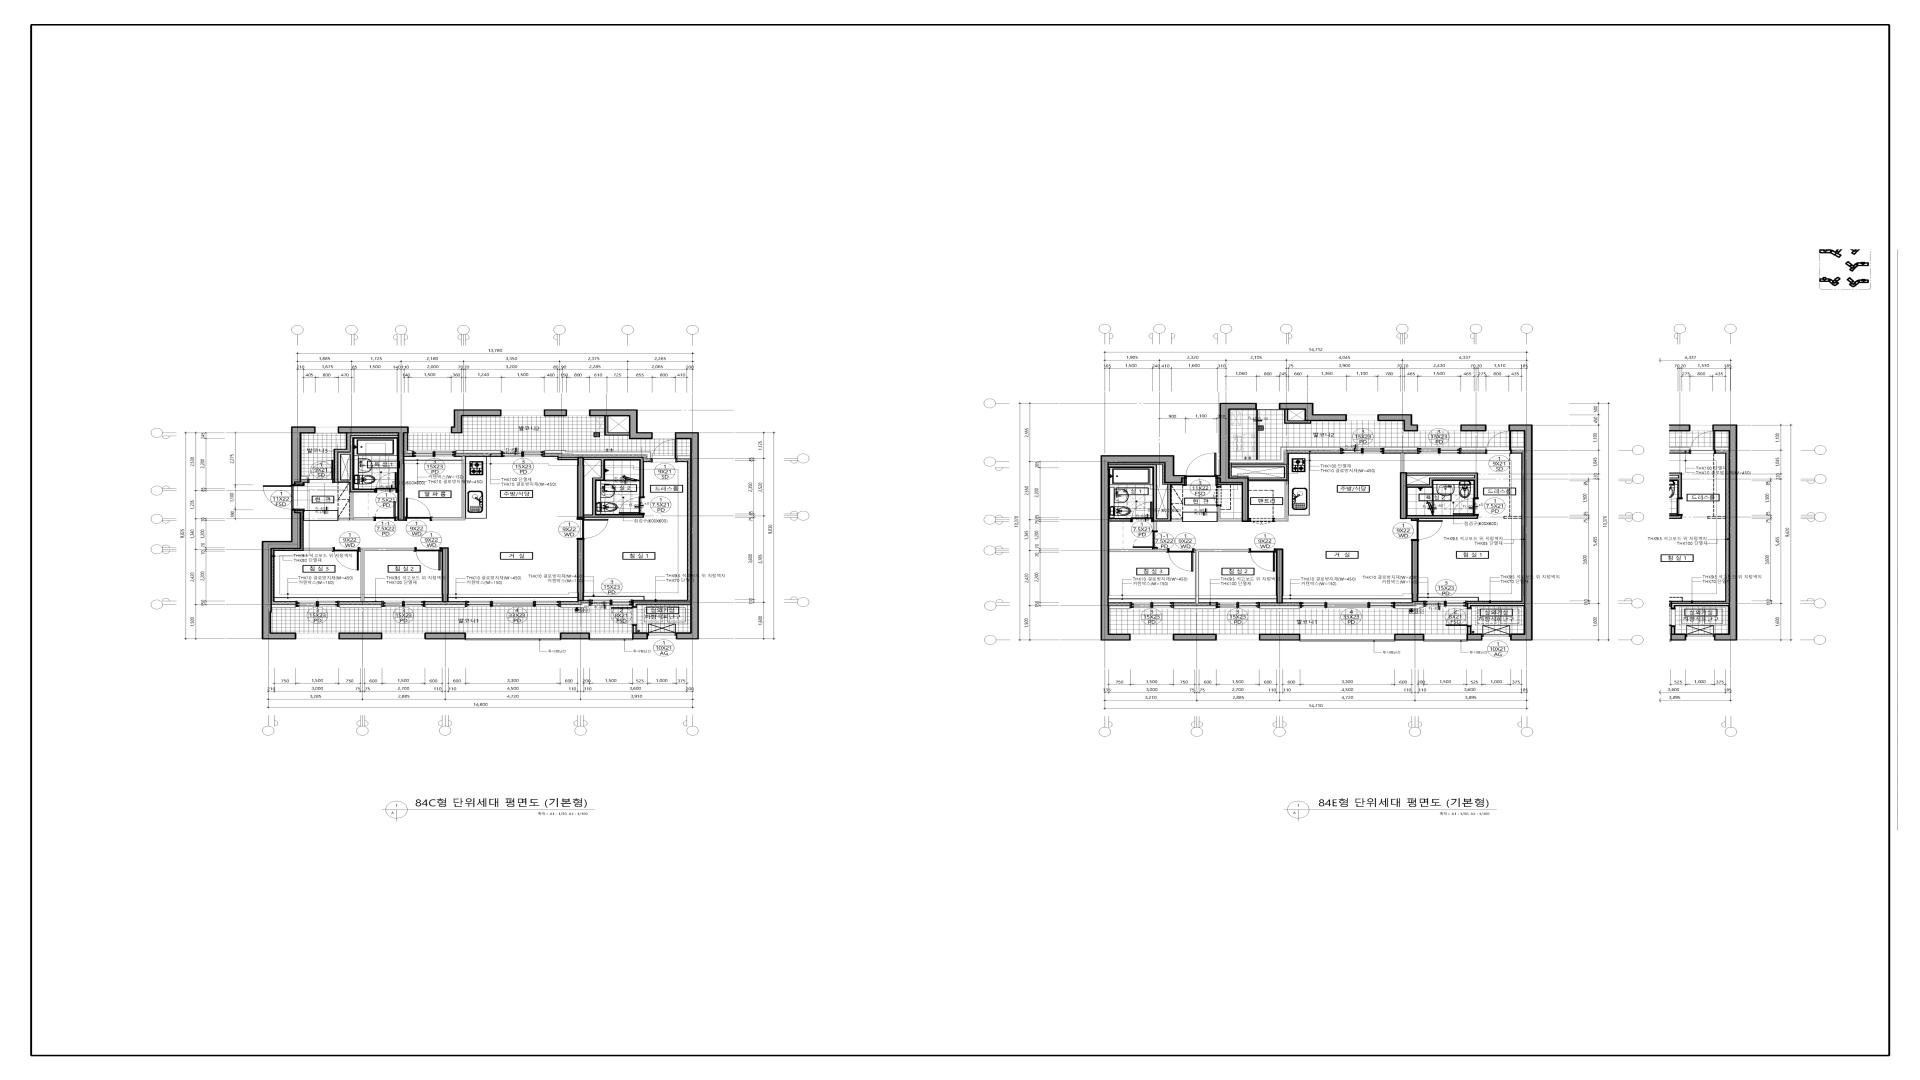door: (1185, 452, 1217, 487), (262, 485, 305, 510), (576, 518, 609, 539), (1411, 520, 1443, 541), (1167, 549, 1195, 572), (1249, 549, 1276, 572), (405, 497, 431, 521), (334, 547, 360, 571), (415, 547, 442, 571), (651, 439, 678, 463), (307, 460, 334, 483), (1486, 431, 1511, 454), (611, 607, 637, 625), (1453, 497, 1480, 516), (1445, 608, 1472, 626), (1130, 501, 1153, 522), (375, 472, 397, 493), (1133, 530, 1158, 549), (618, 497, 645, 514), (375, 501, 397, 521), (1249, 518, 1274, 525)
wall: (1101, 455, 1185, 641), (338, 435, 398, 521), (1509, 425, 1532, 641), (261, 510, 301, 640), (675, 433, 699, 640), (1109, 464, 1183, 530), (584, 458, 644, 518), (1217, 402, 1257, 483), (1195, 549, 1249, 603), (360, 549, 415, 601), (431, 456, 465, 521), (589, 410, 653, 439), (1407, 472, 1478, 497), (1230, 447, 1341, 463), (291, 426, 315, 485), (451, 409, 501, 434), (1279, 404, 1346, 421), (545, 450, 651, 459), (1232, 464, 1287, 480), (1229, 477, 1249, 521), (1378, 414, 1418, 431), (1274, 481, 1288, 521), (338, 426, 409, 434), (1411, 541, 1419, 601), (604, 417, 629, 435), (398, 434, 404, 521), (578, 539, 584, 601), (578, 458, 584, 518), (442, 547, 448, 603), (1276, 549, 1283, 604), (1217, 506, 1242, 521), (1284, 410, 1311, 423), (1400, 472, 1407, 520), (1466, 603, 1524, 608), (633, 601, 690, 607), (1172, 634, 1217, 641), (339, 633, 382, 640), (1407, 516, 1478, 520), (1259, 634, 1300, 641), (425, 633, 465, 640), (1109, 549, 1167, 553), (1394, 634, 1424, 641), (560, 633, 591, 640), (543, 409, 567, 417), (456, 450, 501, 454), (1460, 425, 1486, 431), (339, 604, 382, 608), (1174, 605, 1216, 609), (1259, 605, 1300, 609), (425, 604, 465, 608), (1395, 604, 1424, 609), (560, 603, 589, 608), (303, 547, 334, 551), (632, 633, 649, 640), (1466, 634, 1482, 641), (1385, 447, 1418, 450), (1109, 605, 1130, 609), (1109, 518, 1130, 522), (1400, 454, 1404, 472), (1461, 447, 1486, 450), (272, 605, 295, 608), (558, 458, 578, 460), (678, 455, 690, 459), (1466, 626, 1472, 634), (1511, 447, 1524, 450), (633, 625, 637, 633), (302, 476, 307, 480), (407, 450, 413, 454), (1217, 485, 1220, 487)
window: (467, 633, 560, 641), (1300, 601, 1395, 608), (1300, 634, 1394, 641), (465, 601, 560, 607), (591, 633, 632, 641), (413, 451, 456, 458), (501, 451, 545, 458), (1130, 601, 1174, 608), (1424, 634, 1466, 641), (1418, 425, 1460, 431), (1424, 600, 1466, 607), (381, 601, 426, 607), (295, 601, 339, 607), (589, 600, 633, 605), (1341, 448, 1385, 454), (1418, 448, 1461, 454), (1216, 603, 1259, 608), (1130, 634, 1172, 640), (1217, 634, 1259, 640), (409, 427, 451, 433), (501, 410, 543, 415), (297, 633, 339, 638), (382, 633, 425, 638), (1346, 415, 1377, 421), (1257, 404, 1279, 410), (1486, 425, 1509, 431), (653, 433, 675, 439), (1482, 634, 1510, 640), (649, 633, 676, 638), (315, 427, 338, 433), (567, 410, 589, 415)
